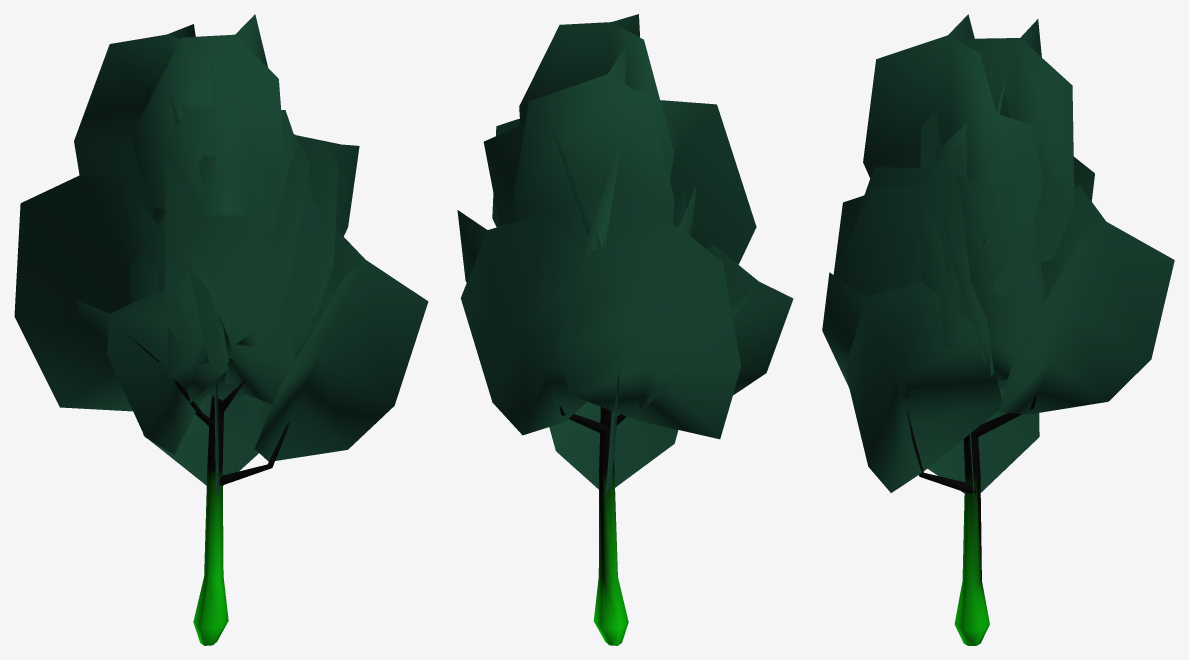
File: SM_FirSapling2.fbx
The picture shows the model from 3 angles, left to right: view 1: azimuth 30°, elevation 25°; view 2: azimuth 150°, elevation 25°; view 3: azimuth 270°, elevation 25°; orthographic projection.
Parts seen in each view (by area): view 1: SM_FirSapling2_LOD0; view 2: SM_FirSapling2_LOD0; view 3: SM_FirSapling2_LOD0.
Part boxes in pixels (<box>): SM_FirSapling2_LOD0: <box>14,14,428,645</box>; SM_FirSapling2_LOD0: <box>457,14,793,645</box>; SM_FirSapling2_LOD0: <box>822,14,1174,645</box>.
Size of what is drawn, in the model's own units: 311 by 575 by 298.
